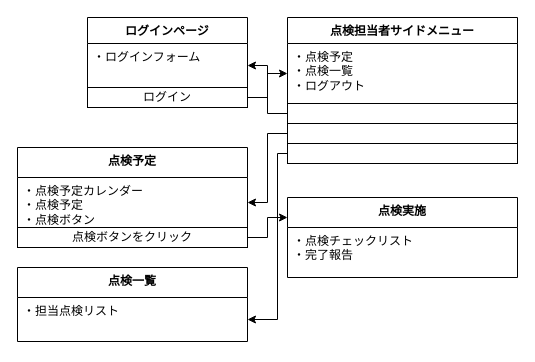
Image size: 535x362. Some labels were removed from this diagram. Each missing label, with the centre of its shape:
"ログアウトボタンをクリック" goes at point (402, 113).
"点検一覧をクリック" goes at point (402, 153).
"点検予定をクリック" goes at point (402, 133).
